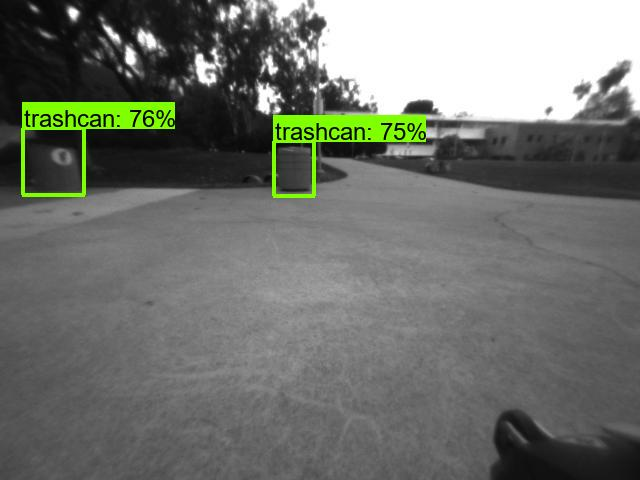trashcan: (19, 131, 93, 196), (276, 146, 314, 198)
